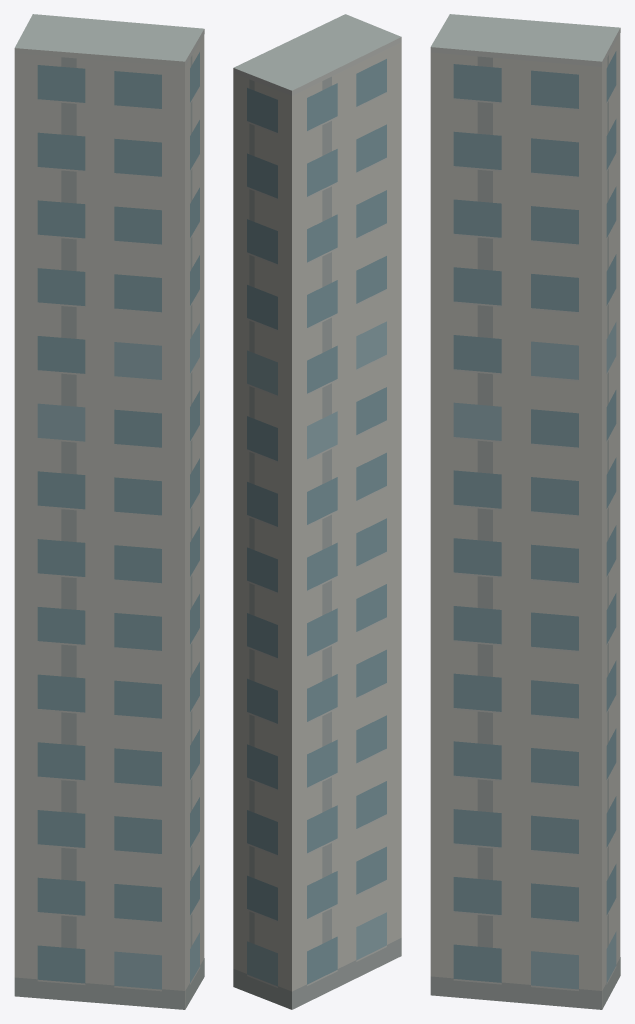
File: survey-upis-32794465.glb
The picture shows the model from 3 angles, left to right: view 1: azimuth 90°, elevation 25°; view 2: azimuth 150°, elevation 25°; view 3: azimuth 270°, elevation 25°; orthographic projection. The views are drawn at different scales.
Parts seen in each view (by area): view 1: survey-upis-32794465.tmp; view 2: survey-upis-32794465.tmp; view 3: survey-upis-32794465.tmp.
Boxes of the visible parts, x1=… form: survey-upis-32794465.tmp: x1=14, y1=14, x2=204, y2=1009; survey-upis-32794465.tmp: x1=233, y1=14, x2=401, y2=1009; survey-upis-32794465.tmp: x1=430, y1=14, x2=620, y2=1009.
Size of the model in its own units: 4.61 by 42.7 by 7.76.
